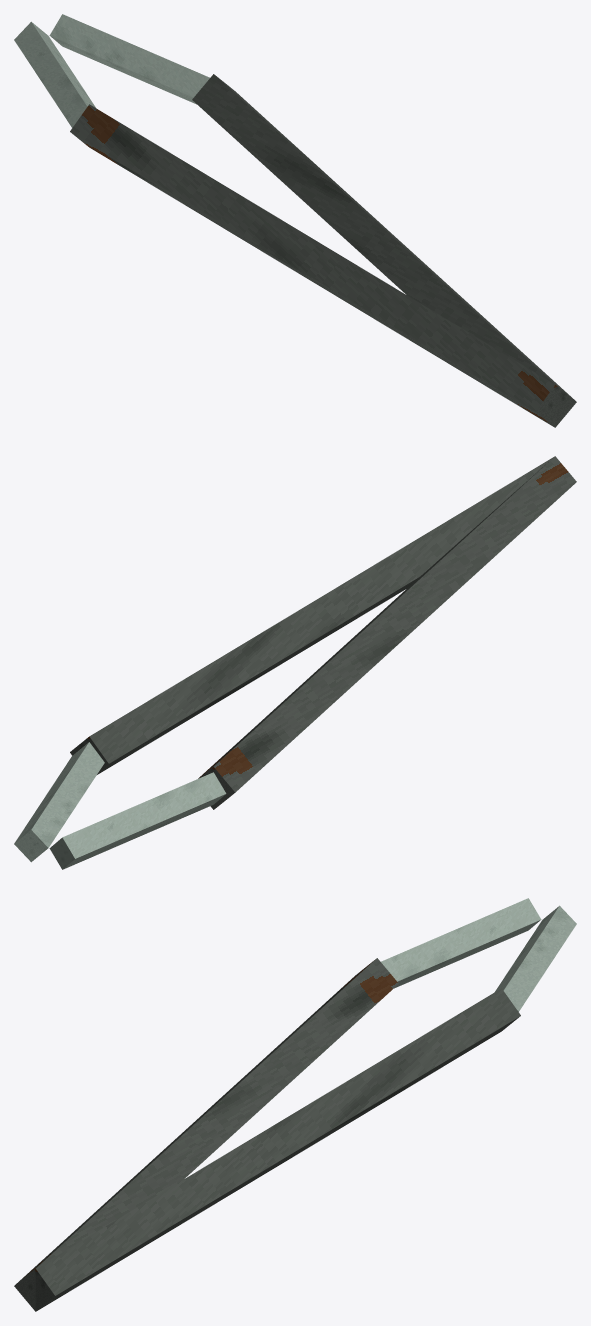
Rendered from forceps.glb.
3 renders of one model, top to bottom at view 1: azimuth 30°, elevation 25°; view 2: azimuth 150°, elevation 25°; view 3: azimuth 330°, elevation 25°, orthographic.
Visible parts, largest first — view 1: Tool_Forceps_Treatment_|_Shared_Pixel_Atlas.002; view 2: Tool_Forceps_Treatment_|_Shared_Pixel_Atlas.002; view 3: Tool_Forceps_Treatment_|_Shared_Pixel_Atlas.002.
Boxes of the visible parts, left/top/right/bottom form: Tool_Forceps_Treatment_|_Shared_Pixel_Atlas.002: left=14, top=14, right=576, bottom=427; Tool_Forceps_Treatment_|_Shared_Pixel_Atlas.002: left=14, top=456, right=576, bottom=869; Tool_Forceps_Treatment_|_Shared_Pixel_Atlas.002: left=14, top=898, right=576, bottom=1311.
Bounding box in the file's own units: 0.032 × 0.008 × 0.1711.
1 material, 1 textured.
